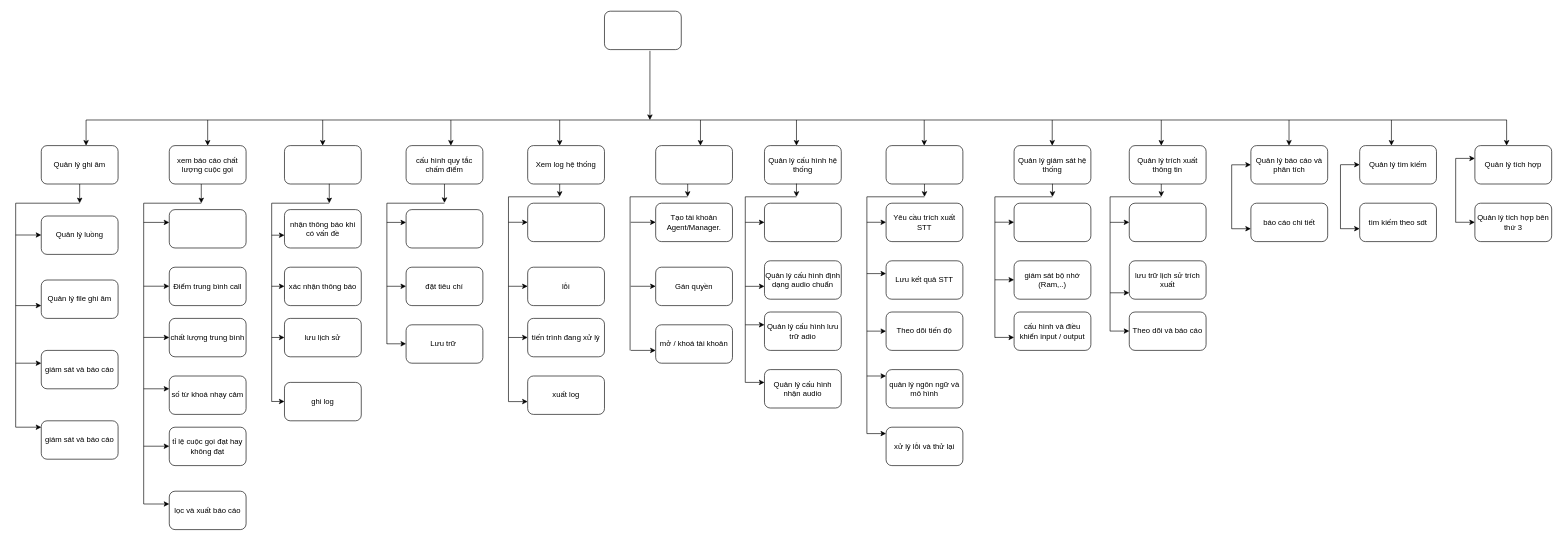
The diagram is 1563 pixels wide and 541 high, and some of its shapes have lost their labels. The centre of each missing label's shape, as x and y in pixels:
Cập nhật cấu hình SIP/VoIP Gateway: the point at 802,222
Ghi lại các sự kiện (email, thông báo,..): the point at 1052,222
kiểm tra log cuộc gọi: the point at 565,222
Manager: the point at 642,30
nhận cảnh báo: the point at 322,164
Quản lý chuyển đổi văn bản: the point at 924,164
quản lý người dùng và phân quyền: the point at 693,164
thiết lập điểm ngưỡng: the point at 444,228
trích xuất thông tin (sdt,name,..): the point at 1167,222
tổng số cuộc gọi theo thời gian: the point at 207,228
